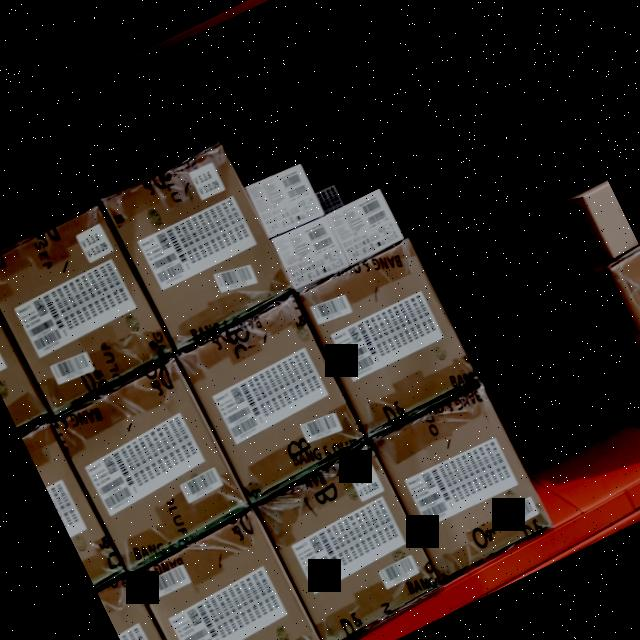box: (103, 143, 293, 350), (55, 362, 246, 564), (180, 297, 367, 496), (0, 204, 173, 413), (257, 450, 439, 640), (373, 385, 551, 579), (302, 241, 476, 431), (135, 515, 325, 640), (248, 163, 323, 237), (274, 214, 346, 286), (331, 190, 402, 258)
